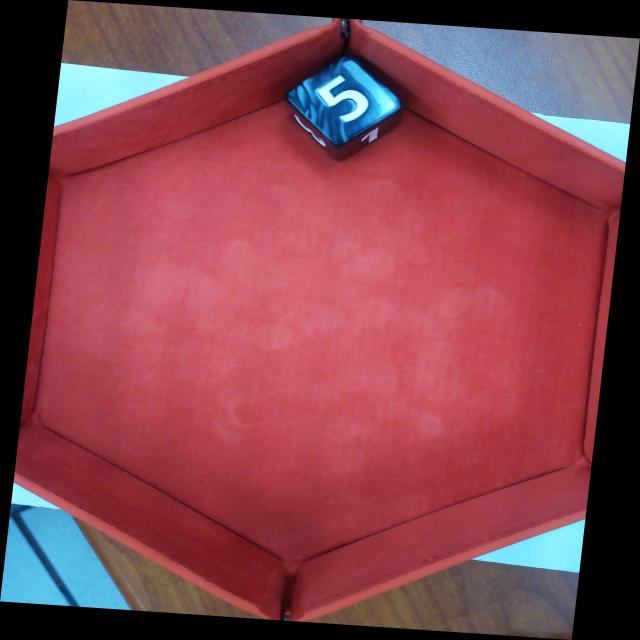dice: (278, 49, 409, 151)
